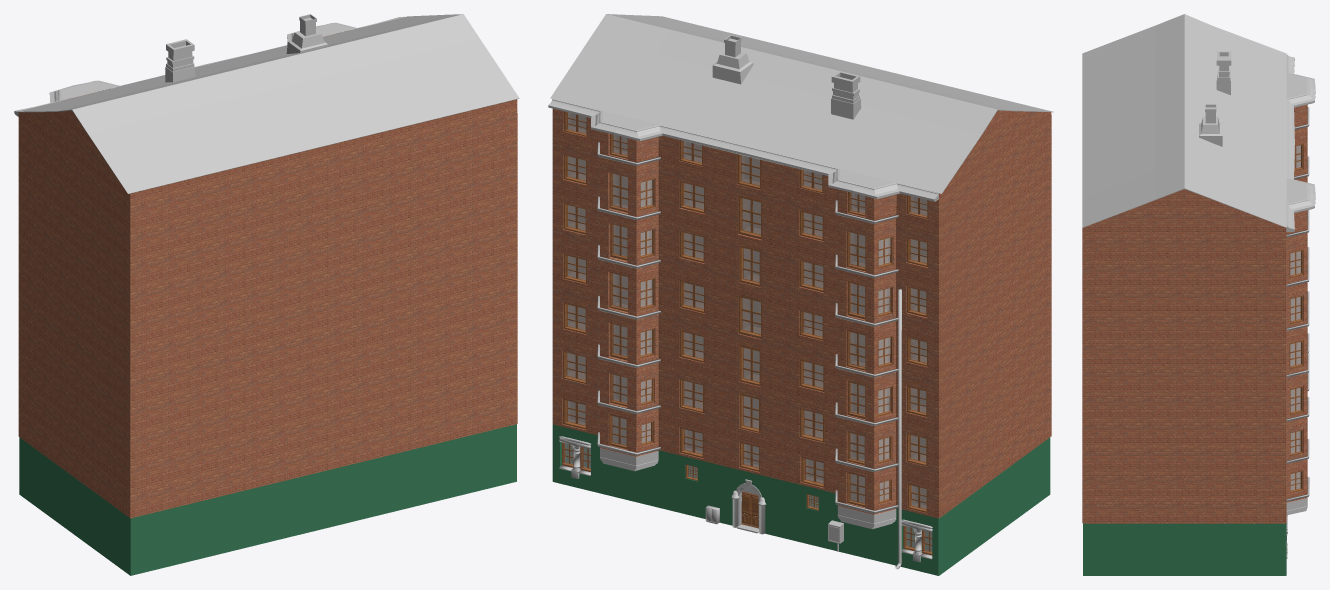
Rendered from Apartment5_Hi.fbx.
3 renders of one model, left to right at view 1: azimuth 30°, elevation 25°; view 2: azimuth 150°, elevation 25°; view 3: azimuth 270°, elevation 25°, orthographic. The views are drawn at different scales.
Parts seen in each view (by area): view 1: Apartment5, FullHouse.153, Apartment5.003, Apartment5.007, Apartment5.005, Apartment5.008, Apartment5.004, Apartment5.006, Apartment5.009, 5th_L_C.014; view 2: Apartment5, FullHouse.153, Apartment5.003, Apartment5.012, Apartment5.007, Apartment5.005, 5th_L_C.014, Apartment5.008, Apartment5.009, Apartment5.004, Apartment5.006, Apartment5.011 (+29 smaller); view 3: Apartment5, FullHouse.153, Apartment5.009, Apartment5.012, 5th_L_C.014, FullHouse.335, FullHouse.392, FullHouse.336, FullHouse.391, FullHouse.339.
Boxes of the visible parts, x1,y1,x2,y2 form: Apartment5: [18, 30, 517, 518]; FullHouse.153: [14, 14, 519, 193]; Apartment5.003: [19, 437, 173, 575]; Apartment5.007: [347, 450, 410, 522]; Apartment5.005: [231, 478, 294, 550]; Apartment5.008: [410, 435, 469, 507]; Apartment5.004: [173, 494, 231, 565]; Apartment5.006: [294, 465, 347, 535]; Apartment5.009: [470, 424, 516, 492]; 5th_L_C.014: [165, 14, 328, 82]; Apartment5: [552, 108, 1051, 518]; FullHouse.153: [548, 14, 1053, 201]; Apartment5.003: [896, 437, 1050, 575]; Apartment5.012: [597, 142, 898, 513]; Apartment5.007: [658, 450, 721, 522]; Apartment5.005: [774, 478, 838, 550]; 5th_L_C.014: [712, 35, 861, 119]; Apartment5.008: [600, 450, 658, 507]; Apartment5.009: [552, 424, 600, 493]; Apartment5.004: [838, 508, 896, 565]; Apartment5.006: [721, 465, 774, 535]; Apartment5.011: [600, 448, 896, 529]; Apartment5: [1082, 104, 1307, 523]; FullHouse.153: [1082, 14, 1315, 231]; Apartment5.009: [1083, 523, 1286, 575]; Apartment5.012: [1286, 107, 1309, 501]; 5th_L_C.014: [1199, 51, 1231, 146]; FullHouse.335: [1289, 340, 1303, 369]; FullHouse.392: [1289, 249, 1303, 278]; FullHouse.336: [1290, 386, 1302, 415]; FullHouse.391: [1290, 295, 1302, 324]; FullHouse.339: [1290, 429, 1302, 456].
Bounding box in the file's own units: 28.35 × 30.9 × 16.06.
